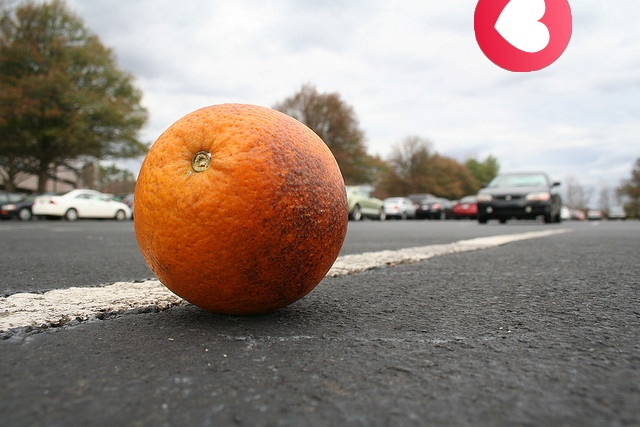love: (474, 0, 572, 72)
